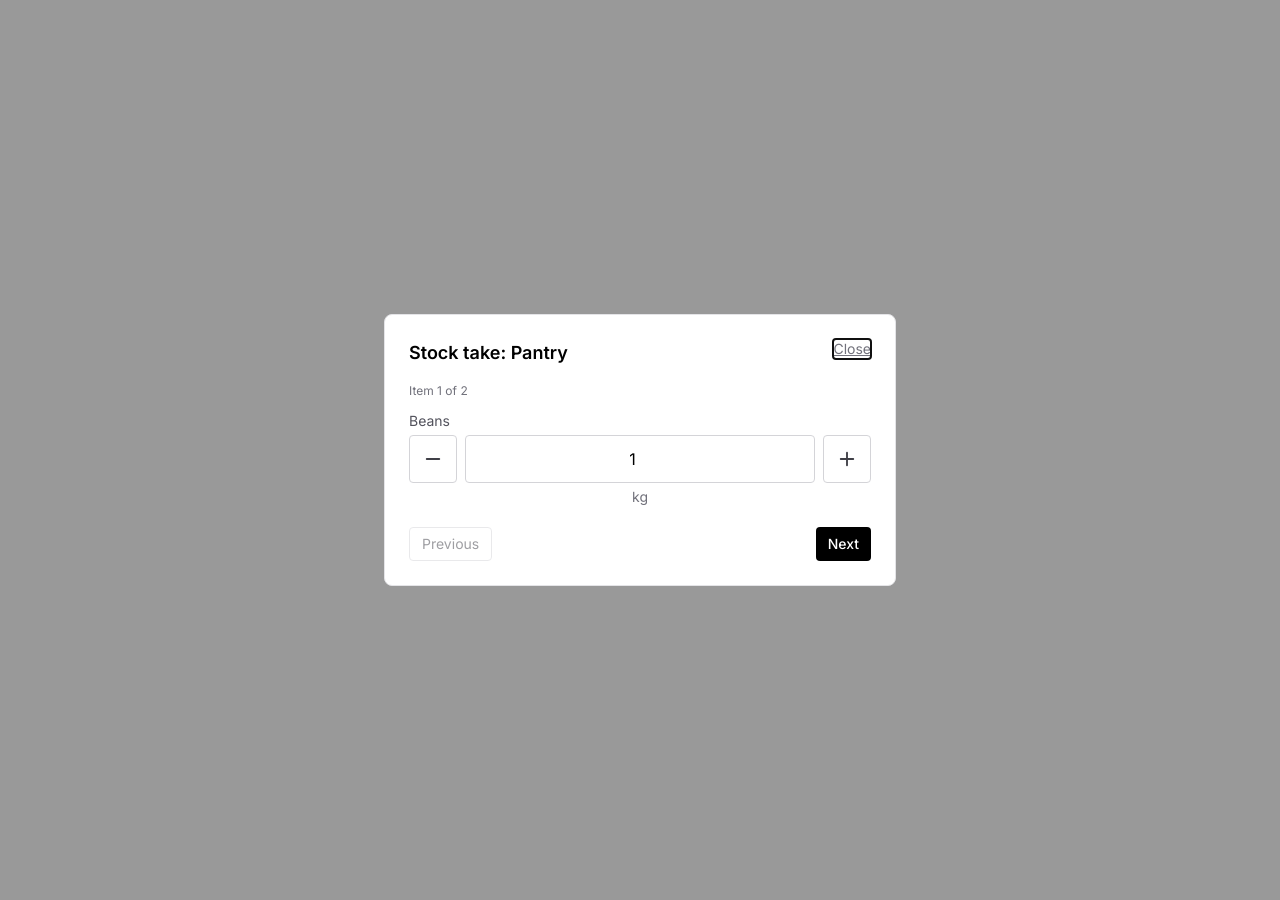
StockToShelfDialog › navigates between items with Next/Previous and shows progress
The image size is (1280, 900).
Check: the text "Item 1 of 2" is shown, box top-left (409, 383), bottom-right (468, 398)
Check: the button "Previous" is disabled, box top-left (409, 527), bottom-right (492, 561)
Click the button "Next" at x=843, y=544, box top-left (816, 527), bottom-right (871, 561)
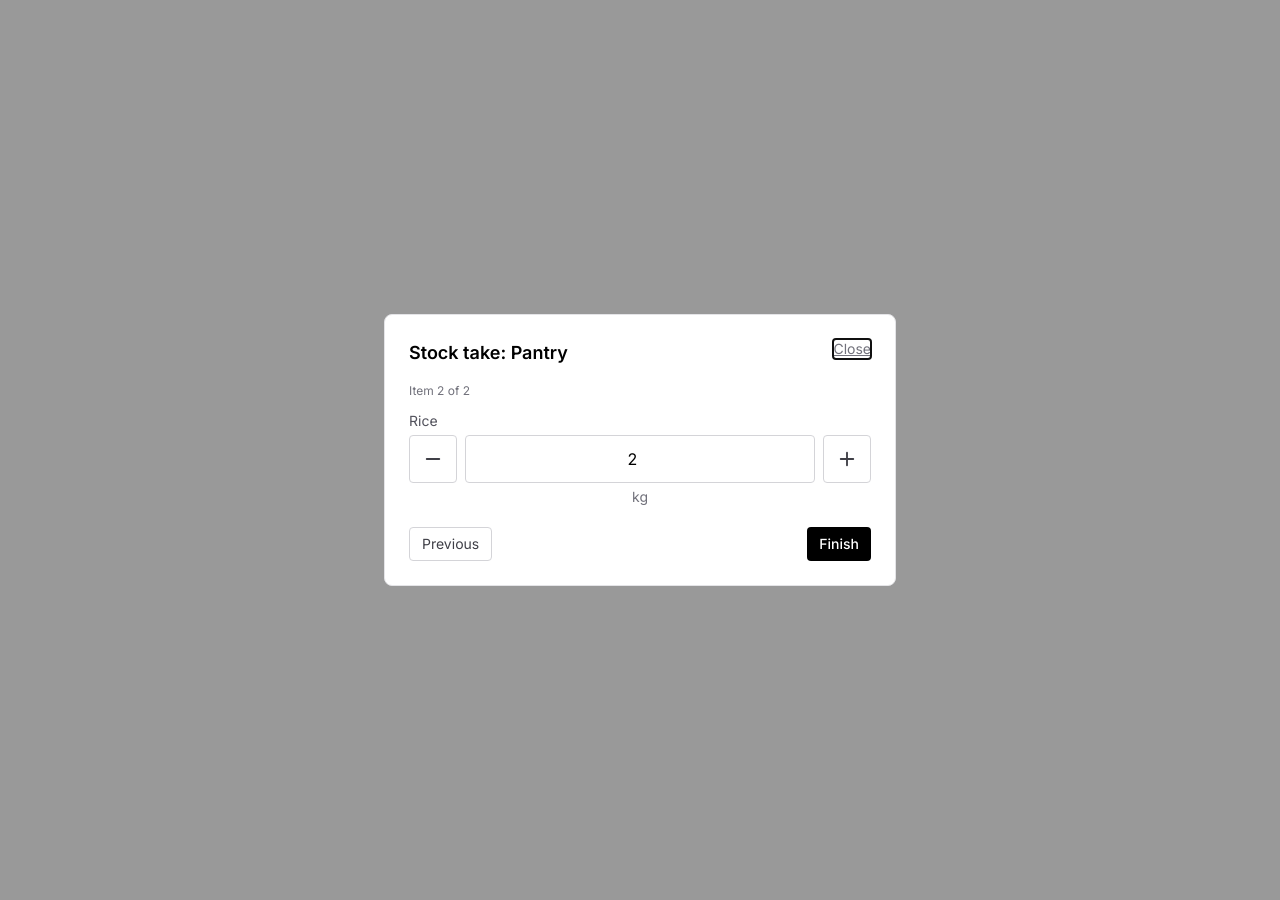
Check: the text "Item 2 of 2" is shown, box top-left (409, 383), bottom-right (470, 398)
Check: the button "Finish" is shown, box top-left (807, 527), bottom-right (871, 561)
Click the button "Previous" at x=451, y=544, box top-left (409, 527), bottom-right (492, 561)
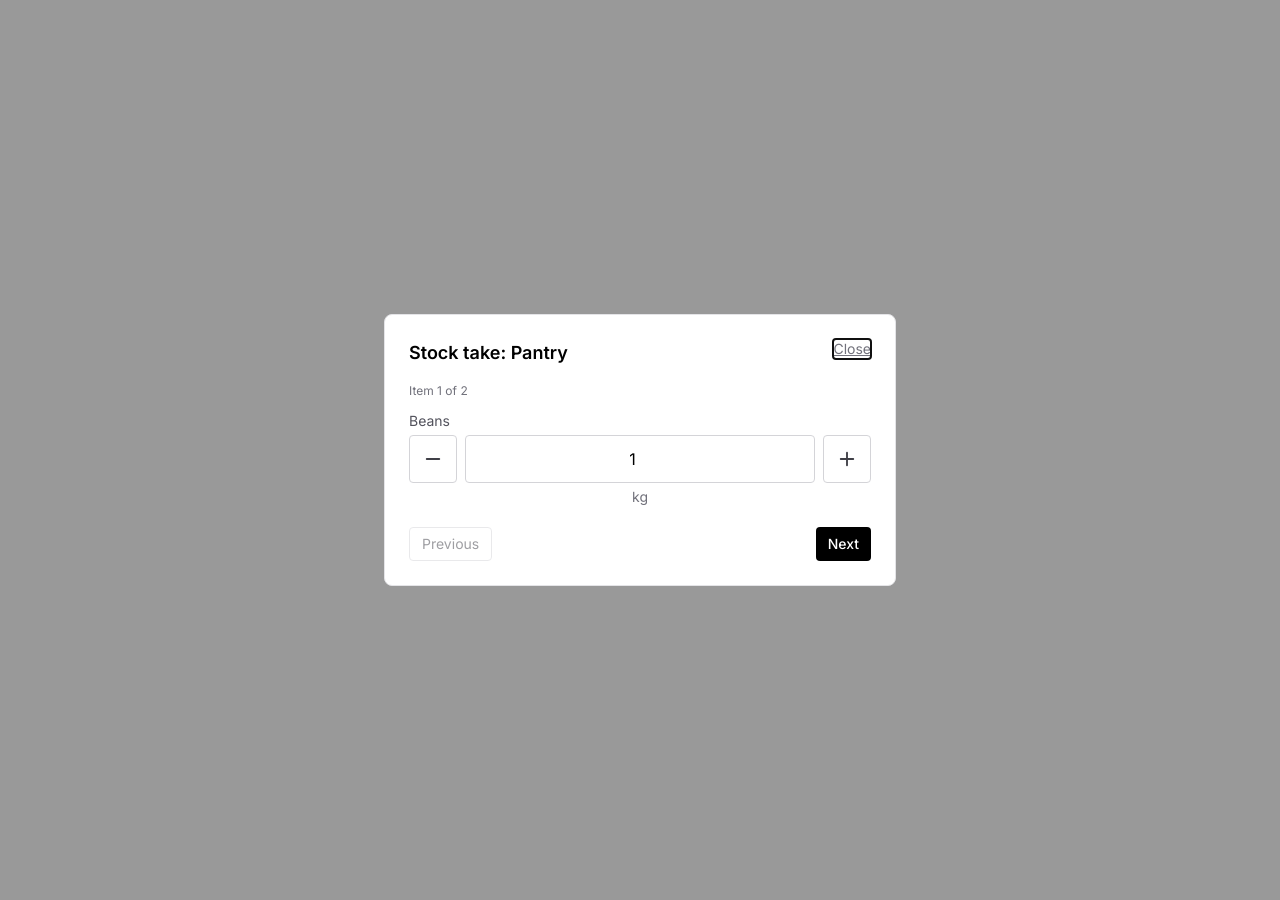
Check: the text "Item 1 of 2" is shown, box top-left (409, 383), bottom-right (468, 398)
